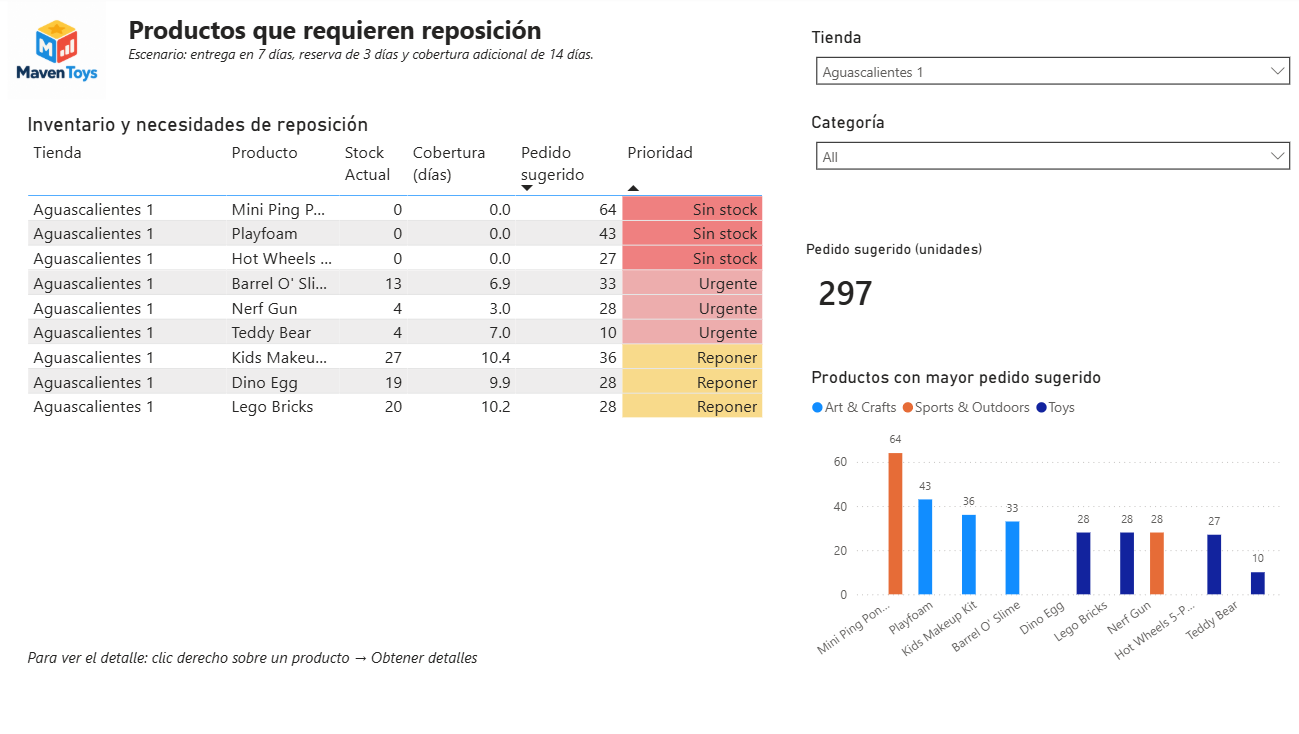

The page's visual inventory and layout, read from the dashboard file:
{"tool":"powerbi","page":{"name":"Centro de reposición","canvas":[1280,720],"ordinal":1},"visuals":[{"type":"tableEx","title":"Inventario y necesidades de reposición","fields":{"Values":["Tiendas.Nombre Tienda Corto","Productos.Product_Name","Medidas_2.Stock Actual","Medidas_4.Cobertura 28D","Medidas_4.Reposición Total 28D","Calendario.Orden Prioridad"]},"box":[35.5,113,725.6,514.6],"z":0},{"type":"slicer","title":"Tienda","fields":{"Values":["Tiendas.Nombre Tienda Corto"]},"box":[798.5,30.3,481.5,82.9],"z":1000},{"type":"slicer","title":"Categoría","fields":{"Values":["Productos.Product_Category"]},"box":[798.5,113.1,481.5,86.8],"z":2000},{"type":"textbox","box":[134.2,10.7,481.5,85.6],"z":3000},{"type":"cardVisual","title":"Pedido sugerido (unidades)","fields":{"Data":["Medidas_4.Reposición Total 28D"]},"box":[798.5,238.1,185.5,76.3],"z":4000},{"type":"clusteredColumnChart","title":"Productos con mayor pedido sugerido","fields":{"Category":["Productos.Product_Name"],"Y":["Medidas_4.Reposición Total 28D"],"Series":["Productos.Product_Category"]},"box":[798.8,360.6,468.3,301.4],"z":5000},{"type":"textbox","box":[35.5,627.6,454.3,34.4],"z":6000},{"type":"image","box":[5.8,4.9,128.4,96.3],"z":7000}]}

Visuals, with their boxes in screenshot pixels (x1, y1, x2, y2), scaled from the page's 1280x720 canvas onto the 1299x734 screenshot:
"Inventario y necesidades de reposición" tableEx: x1=36 y1=115 x2=772 y2=640
"Tienda" slicer: x1=810 y1=31 x2=1298 y2=115
"Categoría" slicer: x1=810 y1=115 x2=1298 y2=204
textbox: x1=136 y1=11 x2=625 y2=98
"Pedido sugerido (unidades)" cardVisual: x1=810 y1=243 x2=999 y2=321
"Productos con mayor pedido sugerido" clusteredColumnChart: x1=811 y1=368 x2=1286 y2=675
textbox: x1=36 y1=640 x2=497 y2=675
image: x1=6 y1=5 x2=136 y2=103
